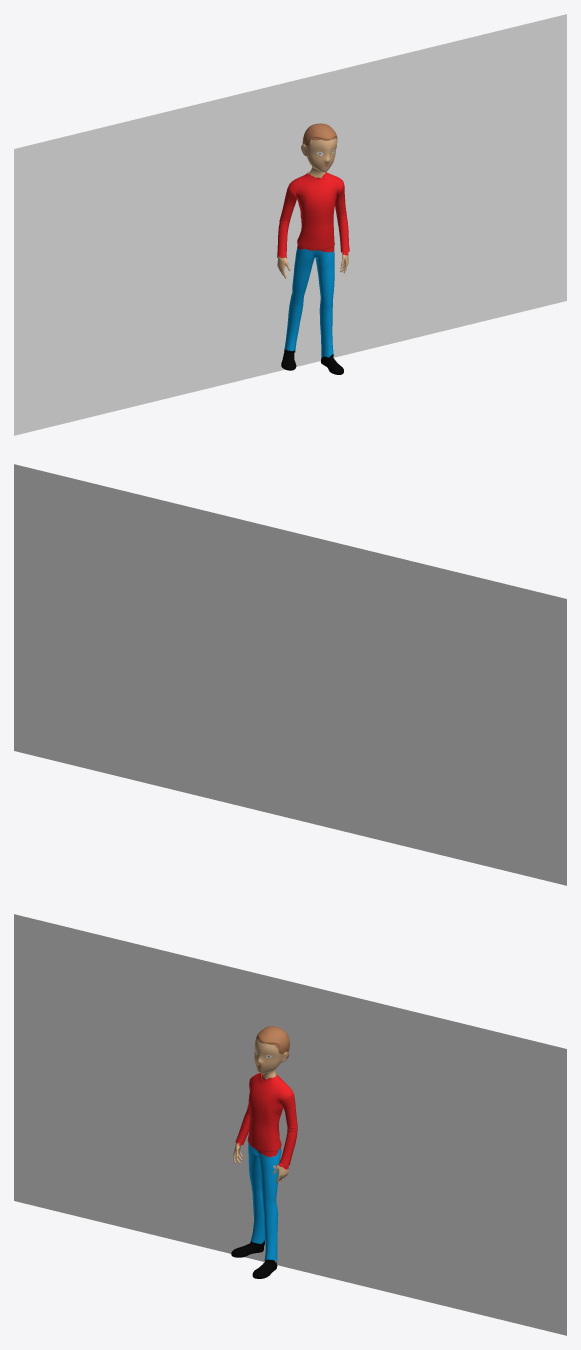
Rendered from chelik2.fbx.
3 renders of one model, top to bottom at view 1: azimuth 30°, elevation 25°; view 2: azimuth 150°, elevation 25°; view 3: azimuth 330°, elevation 25°, orthographic.
Parts seen in each view (by area): view 1: root (×2); view 2: root; view 3: root (×2).
Part boxes in pixels (x1,y1,x2,y2): root (×2): (14, 14, 566, 435); root: (14, 464, 566, 885); root (×2): (14, 914, 566, 1335).
Size of the model in its own units: 2.3 by 1.14 by 0.3085.
2 materials, 2 textured.
